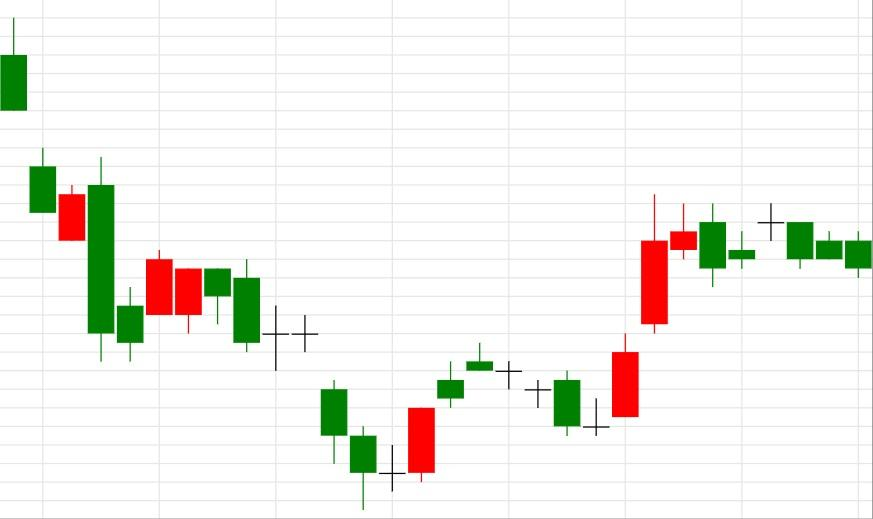bearish_engulfing_fall: (582, 193, 727, 436)
morning_star_rise: (203, 257, 435, 510)
